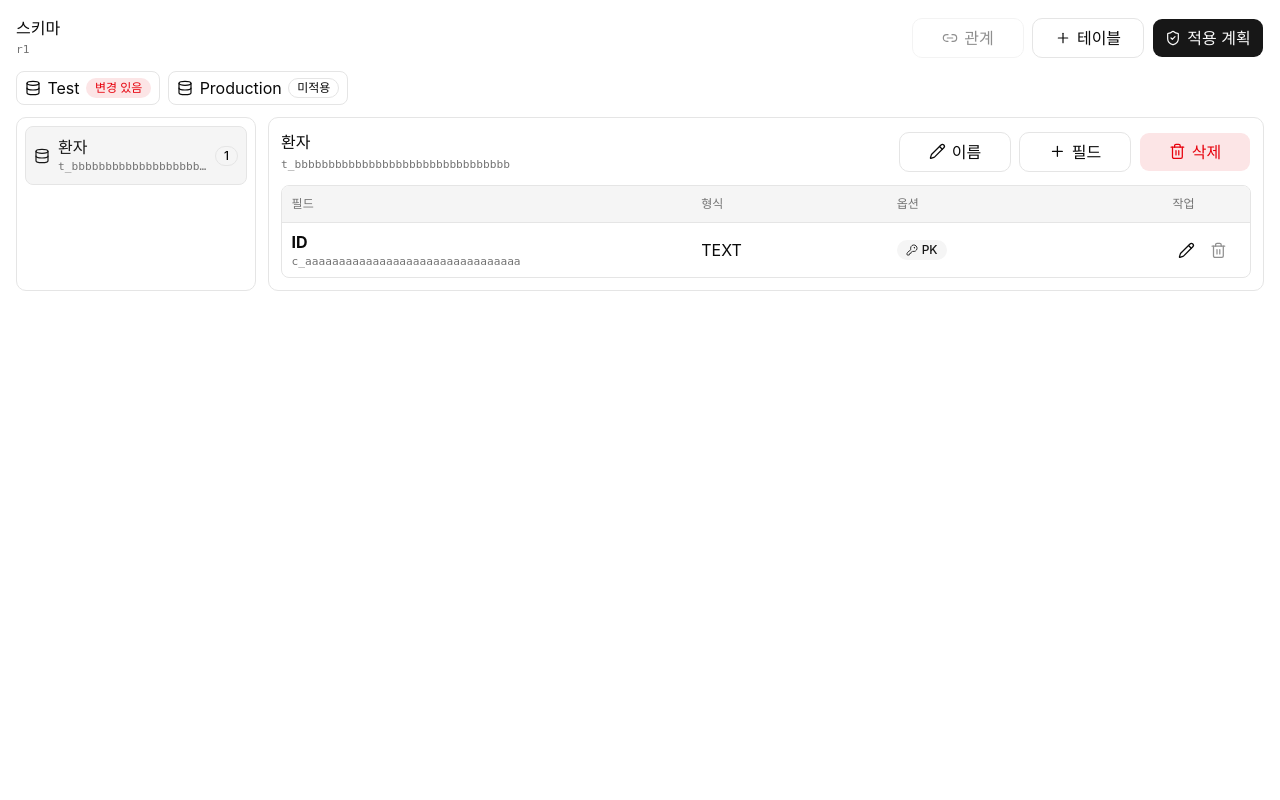
DatabaseDesigner › renames display labels without sending or changing physical names
Expected: the table named "환자 필드" is shown, [281,185,1251,278]
Click the button "이름" at (955, 152), box [899,132,1011,172]
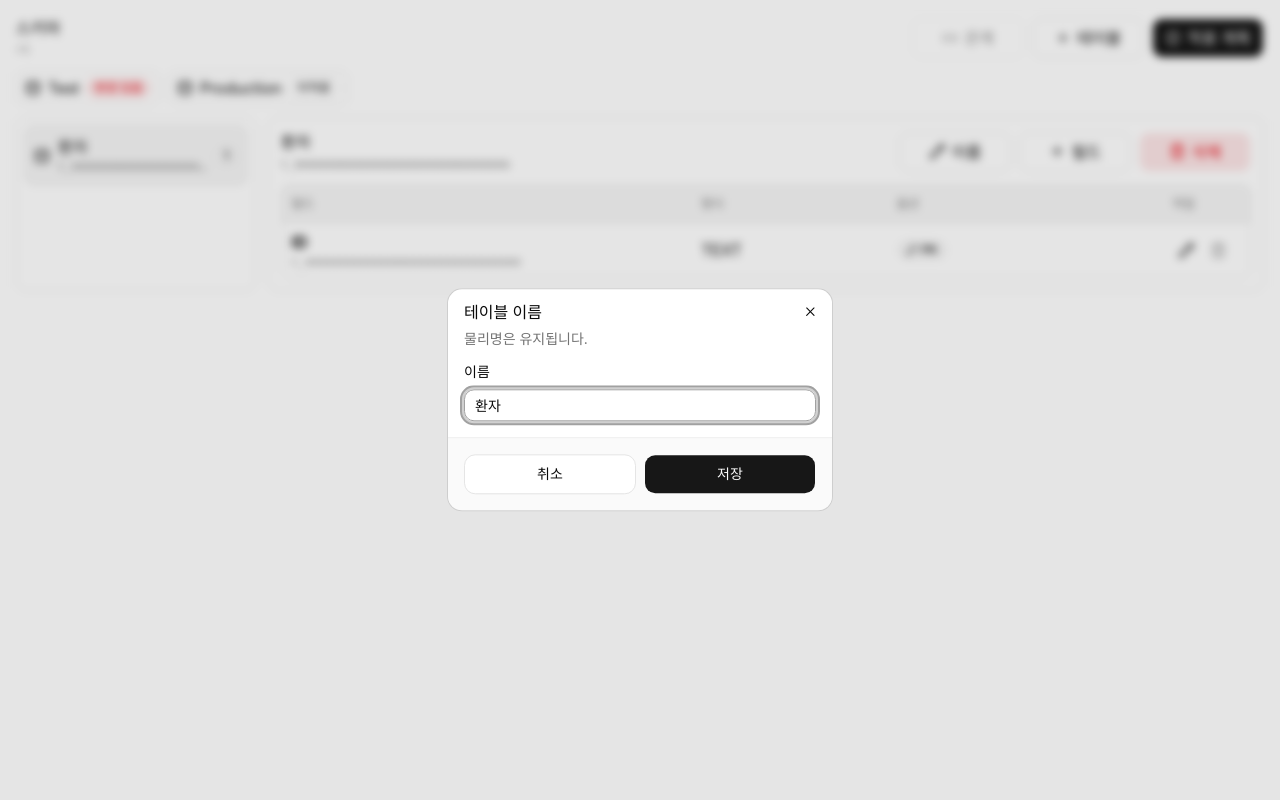
Replace the text in the field labelled "이름" with "고객" at (640, 406), box [464,390,816,422]
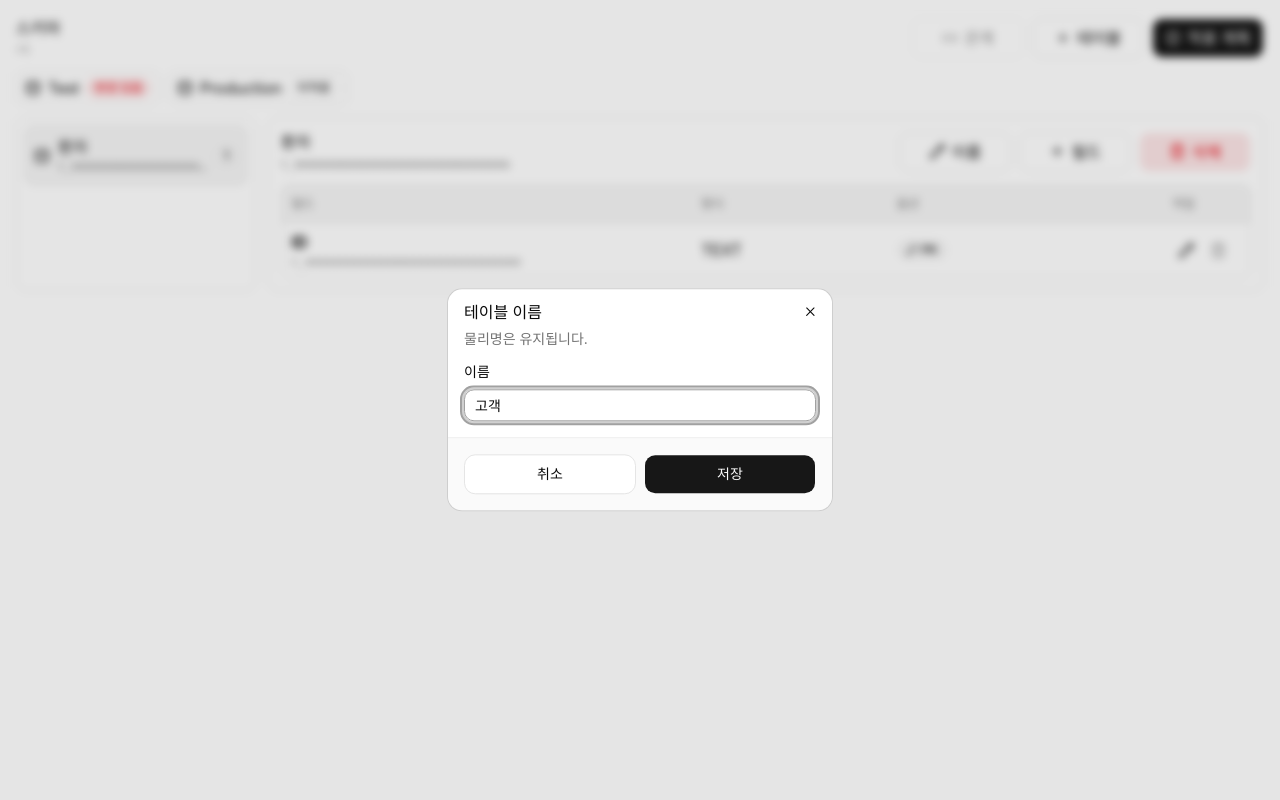
Click the button "저장" at (730, 475), box [644,455,816,495]
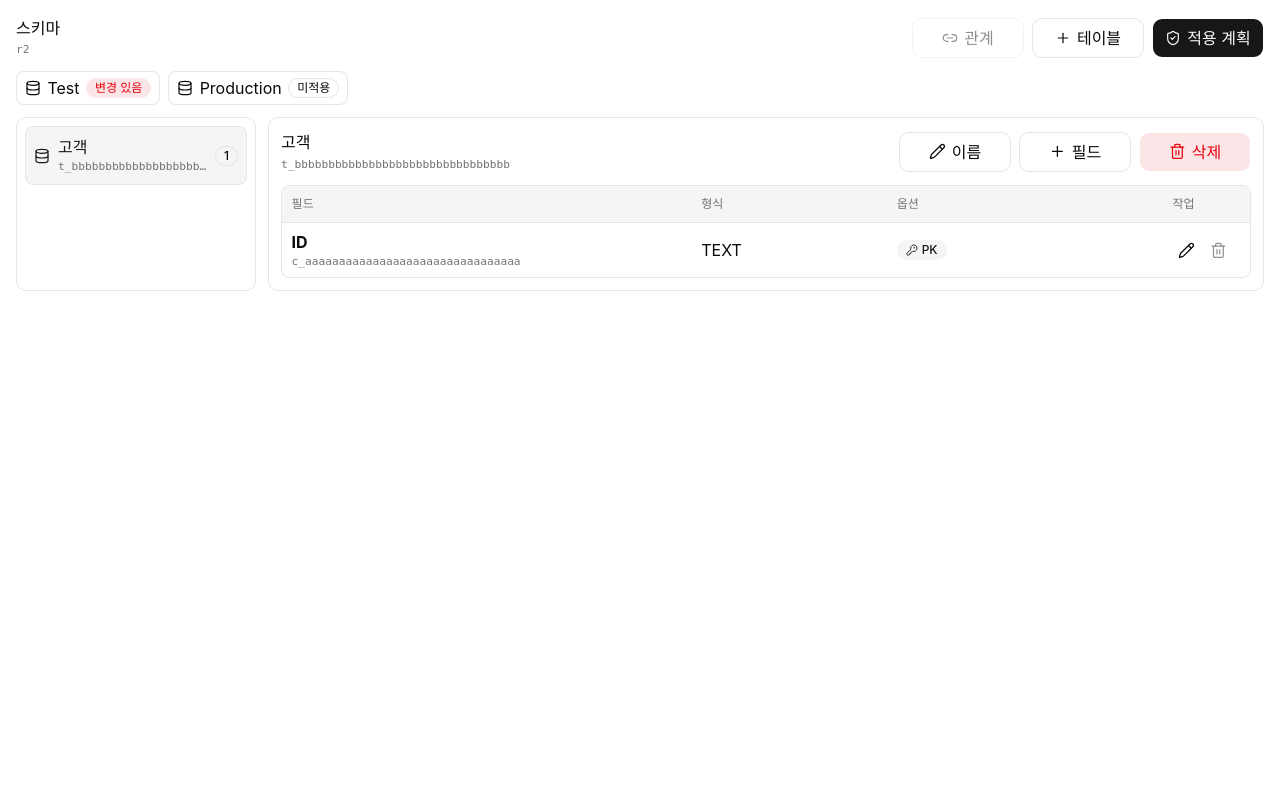
Expected: the table named "고객 필드" is shown, [281,185,1251,278]
Click the button named "ID 이름 변경" at (1186, 250), box [1172,236,1200,264]
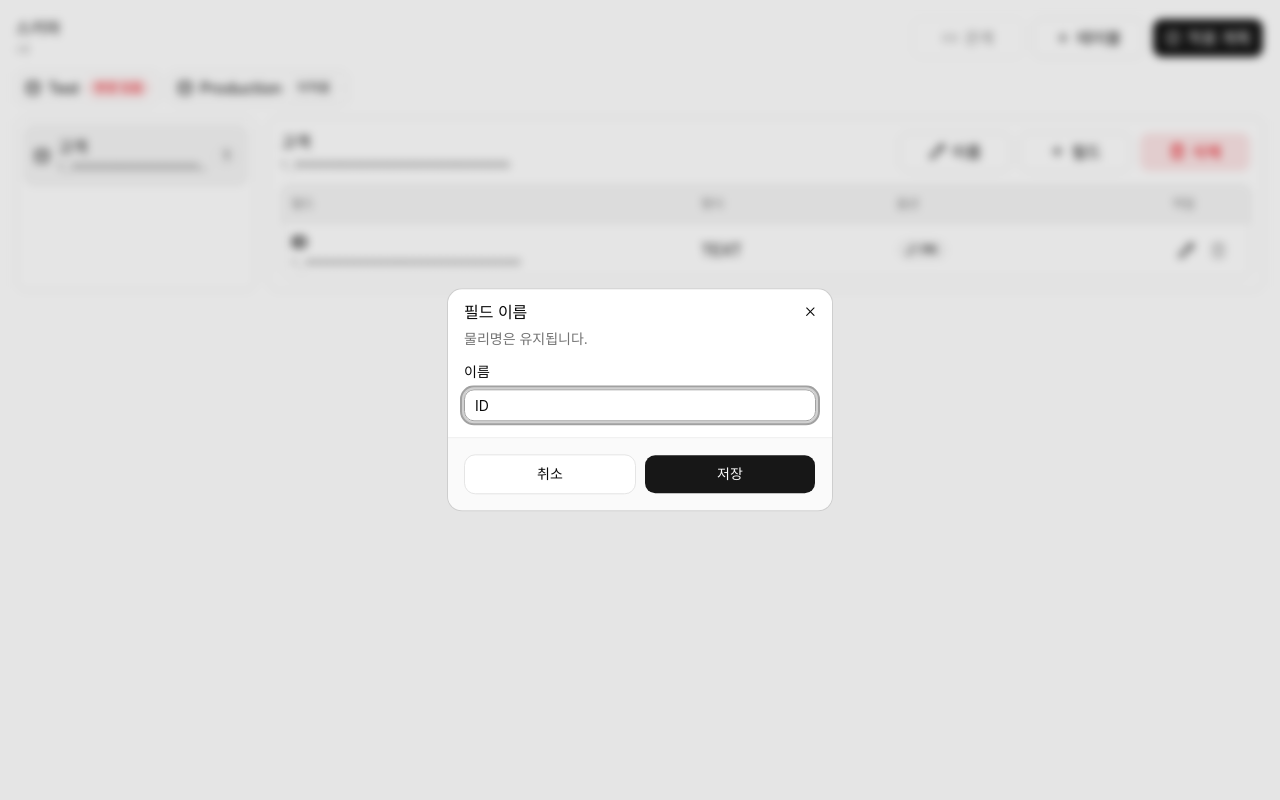
Replace the text in the field labelled "이름" with "키" at (640, 406), box [464,390,816,422]
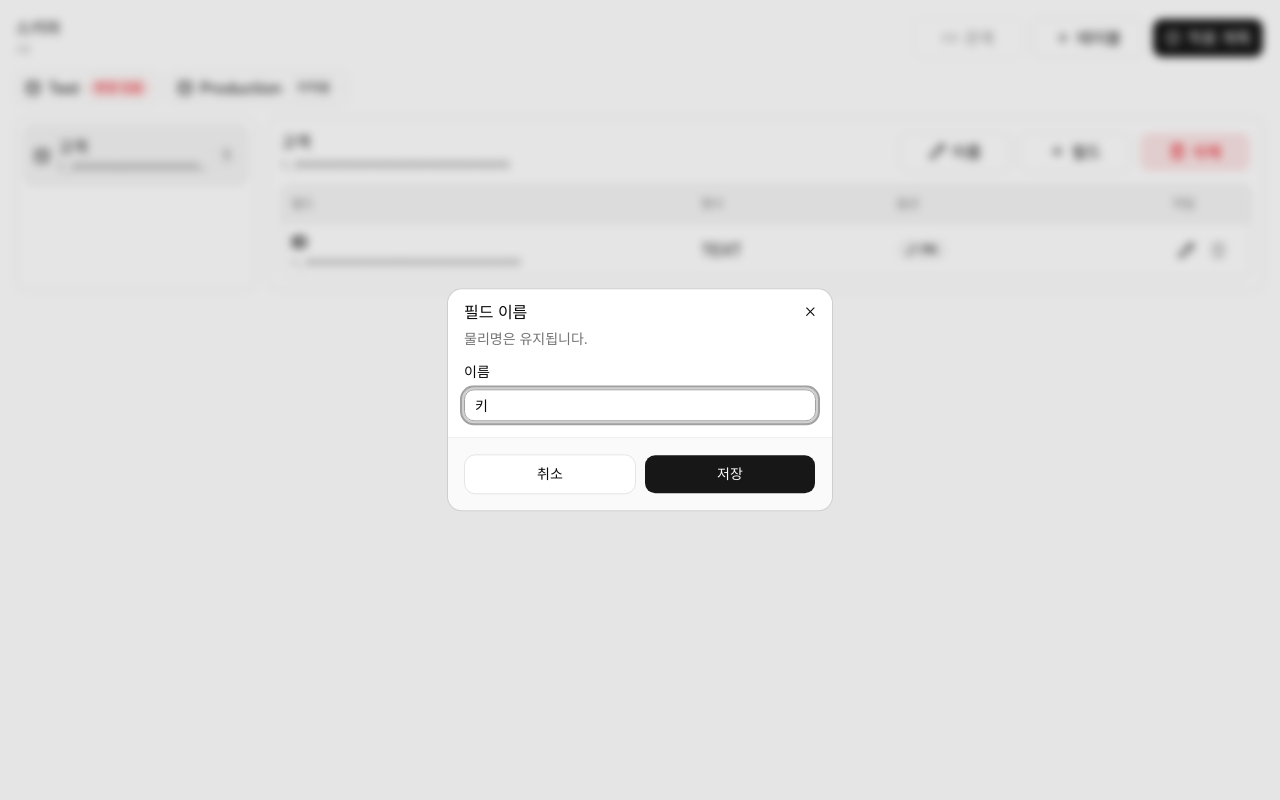
Click the button "저장" at (730, 475), box [644,455,816,495]
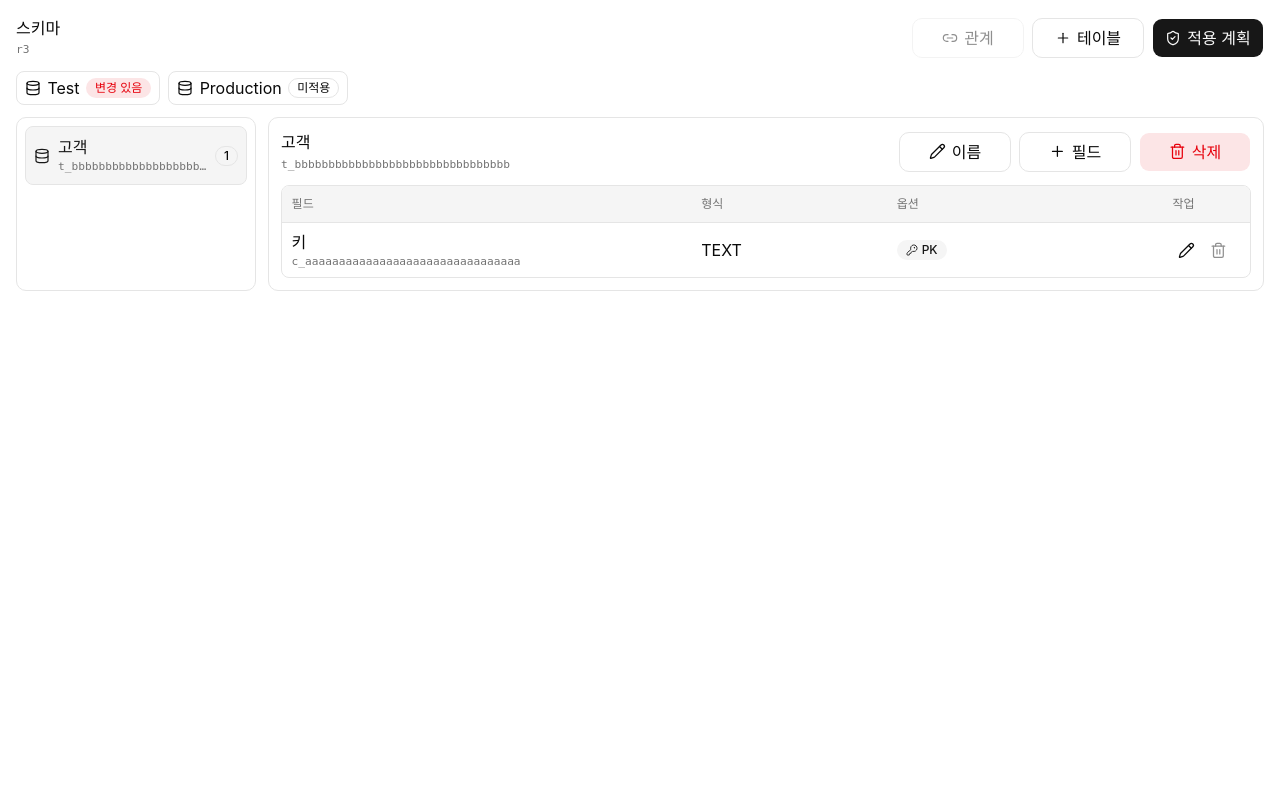
Expected: the text "키" is shown, [292,232,306,252]
